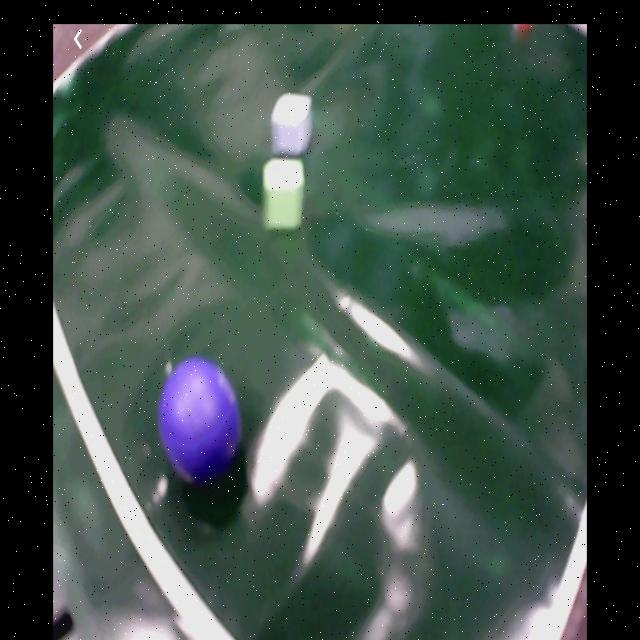ball: (162, 360, 243, 485)
